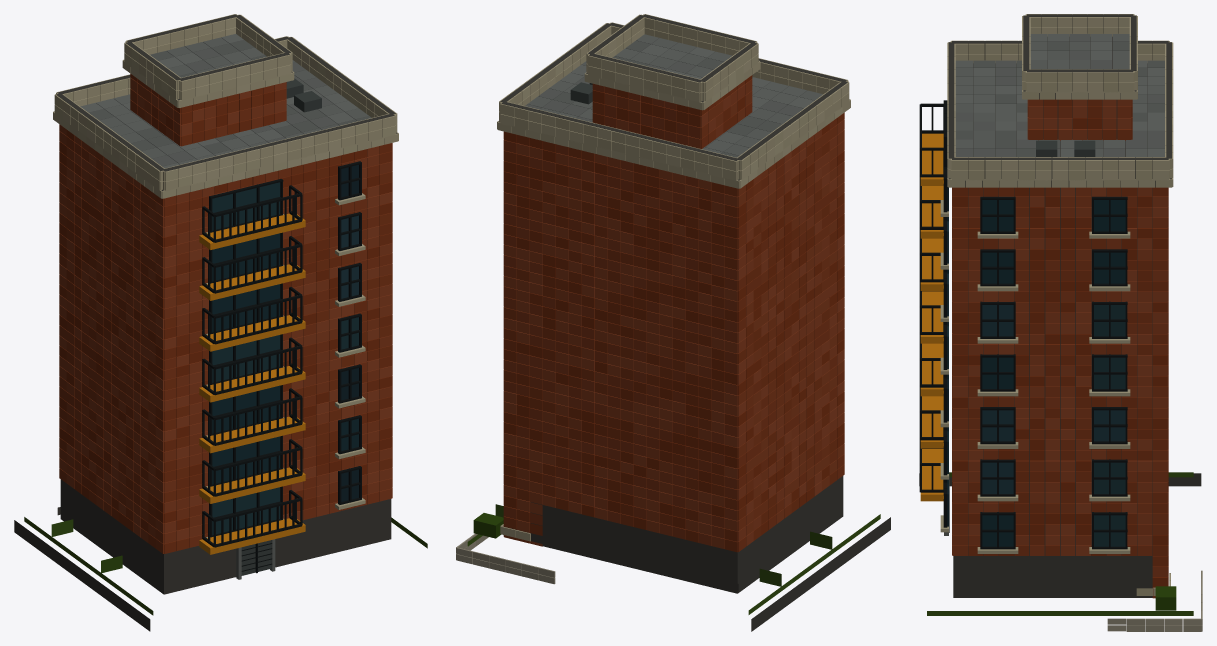
File: SM_StreetFrontage_065.fbx
3 views of the same model, side by side, from view 1: azimuth 30°, elevation 25°; view 2: azimuth 150°, elevation 25°; view 3: azimuth 270°, elevation 25° (orthographic). The views are drawn at different scales.
Parts seen in each view (by area): view 1: SM_StreetFrontage_065; view 2: SM_StreetFrontage_065; view 3: SM_StreetFrontage_065.
Part boxes in pixels (left/top/right/bottom): SM_StreetFrontage_065: left=14, top=14, right=427, bottom=631; SM_StreetFrontage_065: left=456, top=14, right=890, bottom=631; SM_StreetFrontage_065: left=919, top=14, right=1202, bottom=631.
Bounding box in the file's own units: 13.95 × 11.46 × 22.83.
